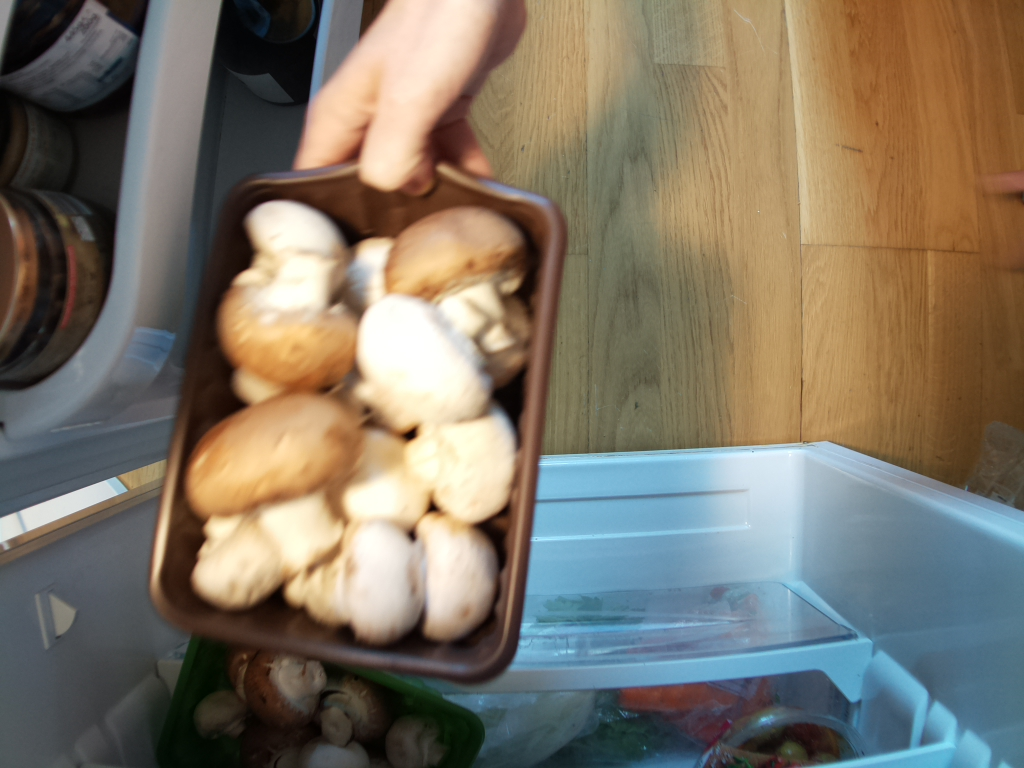mushrooms: (185, 181, 555, 670)
